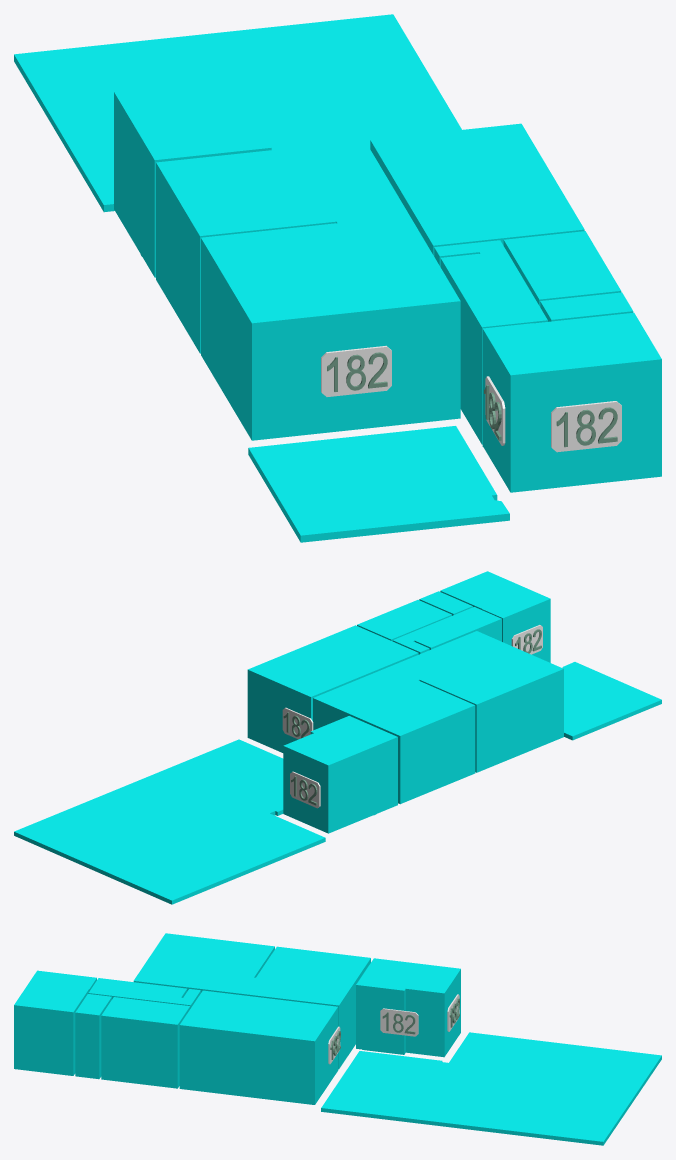
3 views of the same model, one above another, from view 1: azimuth 30°, elevation 25°; view 2: azimuth 150°, elevation 25°; view 3: azimuth 270°, elevation 25° (orthographic). The views are drawn at different scales.
Parts seen in each view (by area): view 1: g_4, g_8, g_2, g_3, g_9, g_1, g_0, g_5, g_6, g_21, g_25, g_7; view 2: g_8, g_4, g_3, g_0, g_1, g_9, g_2, g_5, g_6, g_7, g_17, g_33; view 3: g_8, g_1, g_0, g_6, g_2, g_3, g_4, g_7, g_5, g_13.
Part boxes in pixels (left/top/right/bottom): g_4: left=201, top=215, right=460, bottom=440; g_8: left=14, top=14, right=461, bottom=212; g_2: left=482, top=312, right=661, bottom=492; g_3: left=156, top=140, right=409, bottom=353; g_9: left=248, top=426, right=509, bottom=542; g_1: left=370, top=123, right=584, bottom=256; g_0: left=114, top=80, right=271, bottom=277; g_5: left=434, top=240, right=547, bottom=444; g_6: left=503, top=231, right=621, bottom=306; g_21: left=321, top=345, right=391, bottom=396; g_25: left=551, top=401, right=621, bottom=452; g_7: left=540, top=292, right=633, bottom=321; g_8: left=14, top=739, right=325, bottom=904; g_4: left=390, top=631, right=563, bottom=772; g_3: left=313, top=666, right=475, bottom=804; g_0: left=283, top=716, right=397, bottom=833; g_1: left=247, top=625, right=418, bottom=752; g_9: left=562, top=662, right=661, bottom=740; g_2: left=440, top=571, right=550, bottom=662; g_5: left=392, top=607, right=501, bottom=654; g_6: left=357, top=600, right=451, bottom=641; g_7: left=419, top=591, right=472, bottom=615; g_17: left=290, top=771, right=320, bottom=808; g_33: left=282, top=707, right=313, bottom=739; g_8: left=321, top=1032, right=661, bottom=1145; g_1: left=179, top=990, right=338, bottom=1104; g_0: left=356, top=958, right=460, bottom=1057; g_6: left=101, top=997, right=190, bottom=1088; g_2: left=14, top=970, right=96, bottom=1075; g_3: left=243, top=946, right=370, bottom=1069; g_4: left=133, top=933, right=274, bottom=995; g_7: left=75, top=994, right=111, bottom=1079; g_5: left=88, top=978, right=200, bottom=1008; g_13: left=380, top=1008, right=418, bottom=1036.
Size of the model in its own units: 13.37 by 2.65 by 22.84.
